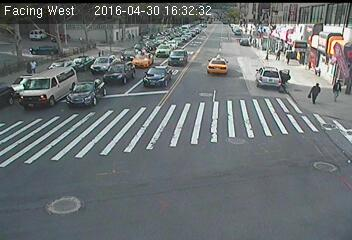neg: (237, 159, 266, 198), (55, 12, 78, 42), (231, 92, 251, 119), (129, 173, 148, 198), (27, 138, 45, 162), (80, 144, 97, 167), (218, 122, 234, 142), (83, 10, 98, 31), (176, 95, 191, 115), (214, 24, 229, 44), (255, 16, 270, 36), (259, 118, 274, 137), (320, 17, 334, 35), (108, 83, 121, 100), (320, 156, 331, 170), (180, 5, 190, 18), (180, 155, 189, 167), (220, 64, 229, 76), (158, 39, 167, 51), (181, 36, 189, 47), (71, 191, 77, 200), (330, 60, 336, 68)
pos: (272, 68, 293, 96), (306, 80, 326, 107), (328, 78, 347, 102), (20, 58, 33, 76), (25, 57, 36, 71), (273, 47, 283, 61), (125, 32, 133, 42), (284, 51, 292, 61), (128, 32, 135, 40)
